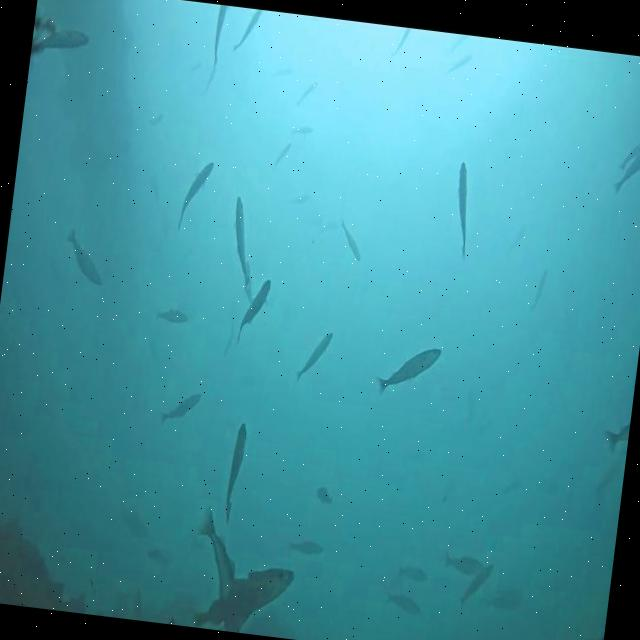fish: (193, 558, 296, 636), (190, 506, 246, 596), (374, 342, 442, 402), (174, 156, 216, 234), (226, 197, 261, 287), (448, 160, 479, 258), (62, 225, 108, 285), (222, 422, 248, 523), (234, 278, 272, 346), (294, 325, 334, 383), (40, 22, 94, 61), (612, 126, 640, 200), (160, 389, 203, 428), (460, 562, 493, 608), (442, 548, 486, 578), (208, 5, 228, 70), (232, 8, 260, 54), (337, 219, 366, 260), (602, 420, 628, 459), (529, 268, 548, 314), (384, 592, 423, 614), (619, 137, 640, 171), (156, 304, 190, 324), (290, 537, 324, 555), (392, 26, 412, 56), (396, 564, 429, 582), (447, 52, 473, 74), (296, 80, 317, 106), (146, 547, 170, 567), (223, 322, 236, 358), (274, 139, 290, 168), (289, 190, 313, 208), (316, 483, 334, 505), (290, 127, 312, 137), (275, 66, 292, 78)
